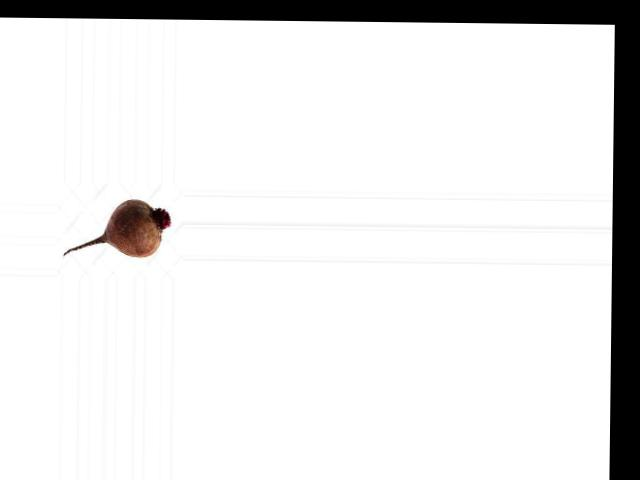beet: (63, 197, 170, 257)
